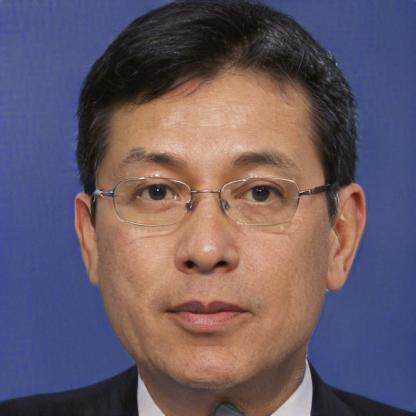glasses: (103, 170, 315, 234)
